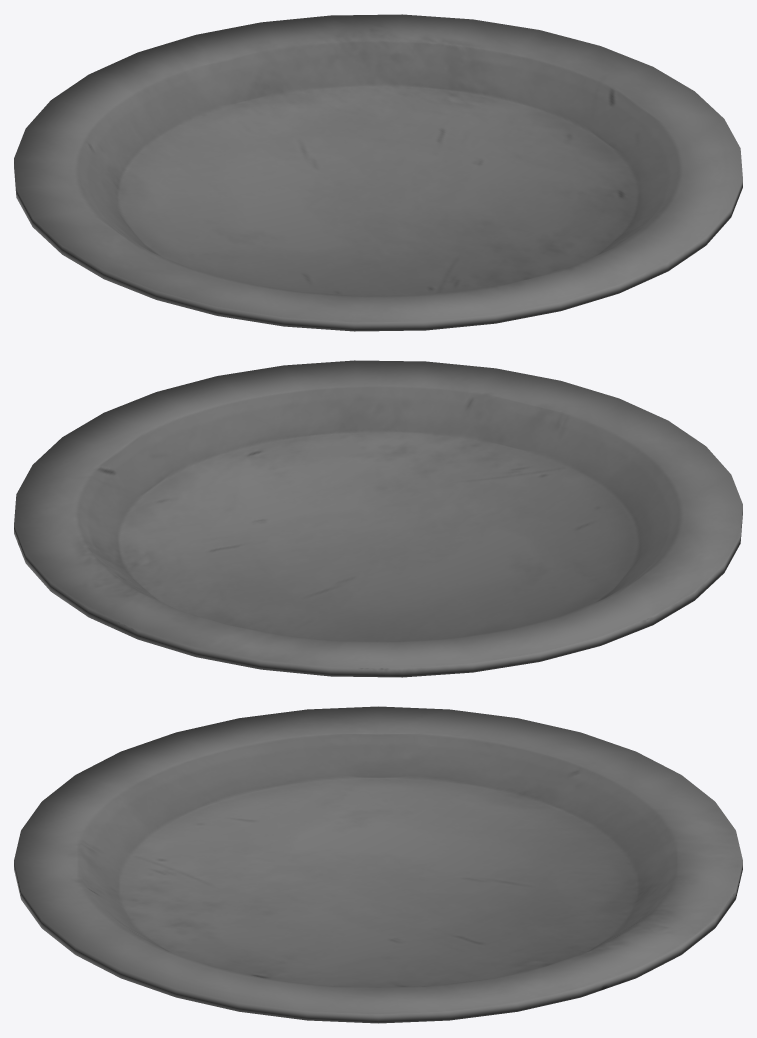
Rendered from sb_obj_indoor006_Plate07.fbx.
3 renders of one model, top to bottom at view 1: azimuth 30°, elevation 25°; view 2: azimuth 150°, elevation 25°; view 3: azimuth 270°, elevation 25°, orthographic.
Parts seen in each view (by area): view 1: Plate7; view 2: Plate7; view 3: Plate7.
Boxes of the visible parts, left/top/right/bottom form: Plate7: left=14, top=14, right=742, bottom=331; Plate7: left=14, top=360, right=742, bottom=677; Plate7: left=14, top=706, right=742, bottom=1023.
Bounding box in the file's own units: 0.3484 × 0.0187 × 0.3484.
